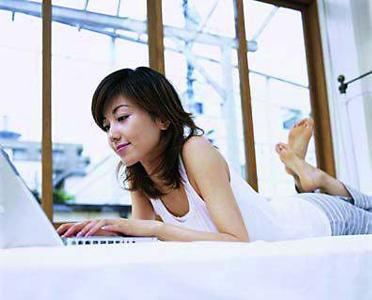person: (58, 67, 372, 243)
